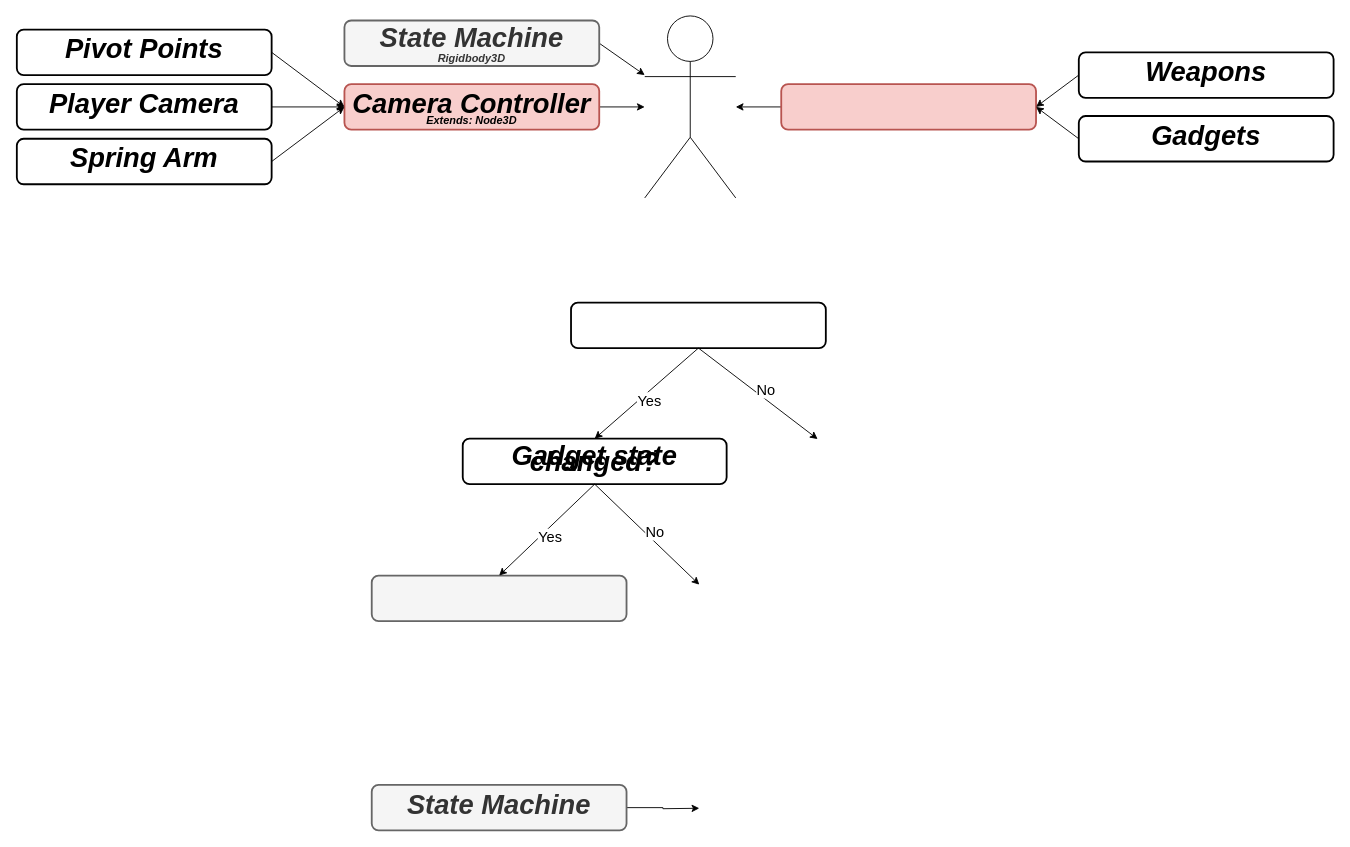
This 1350x847 diagram has some shape labels left out. The centre of each missing label's shape, as x and y in pixels:
Inventory Node3D: (x=908, y=106)
Player Extends: CharacterBody3D: (x=690, y=106)
Player has Gadget?: (x=698, y=325)
State Machine react: (x=498, y=598)
